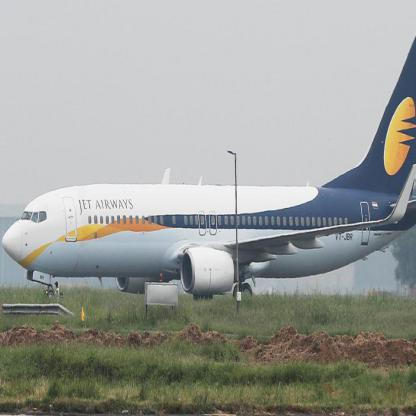CIV_Plane: (2, 34, 416, 310)
